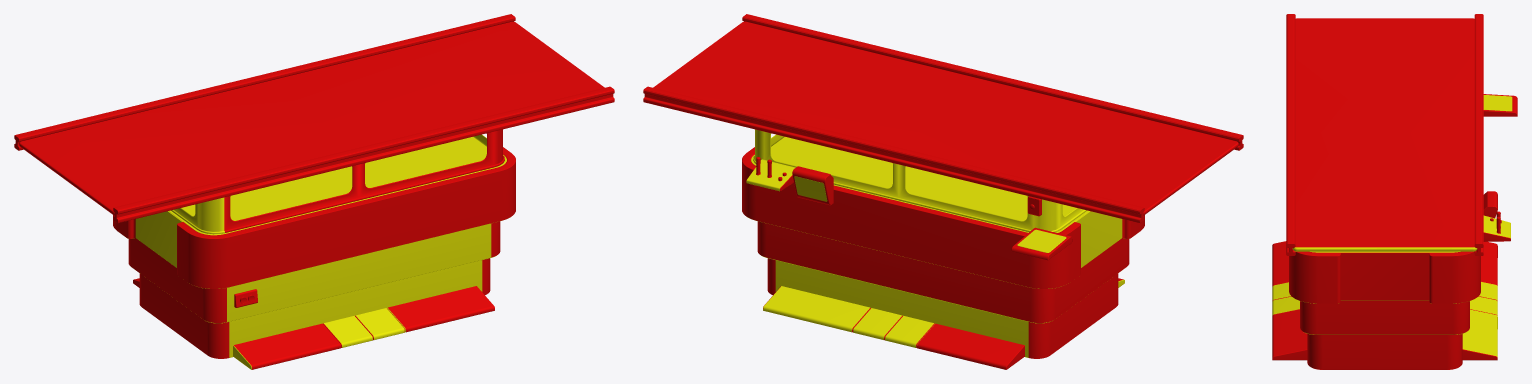
Rendered from Equipment_10.fbx.
The picture shows the model from 3 angles, left to right: view 1: azimuth 30°, elevation 25°; view 2: azimuth 150°, elevation 25°; view 3: azimuth 270°, elevation 25°; orthographic projection. The views are drawn at different scales.
Visible parts, largest first — view 1: L10:polySurface684; view 2: L10:polySurface684; view 3: L10:polySurface684.
Part boxes in pixels (bbox=[...]): L10:polySurface684: bbox=[14, 14, 614, 369]; L10:polySurface684: bbox=[643, 14, 1243, 369]; L10:polySurface684: bbox=[1272, 14, 1517, 369].
Size of the model in its own units: 268 by 95.64 by 121.
